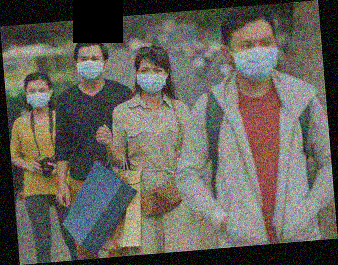with_mask: (230, 36, 278, 84), (137, 65, 167, 94), (77, 54, 104, 83), (25, 86, 51, 109)
